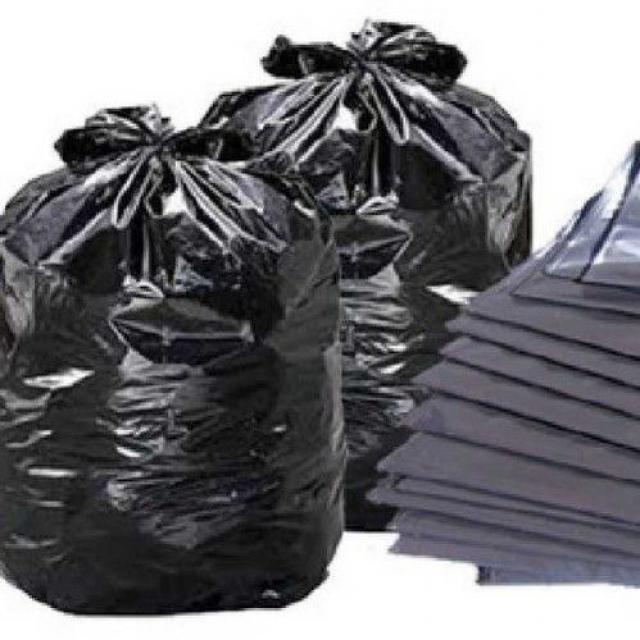plastic_bag: (2, 129, 341, 613), (246, 28, 541, 494)
